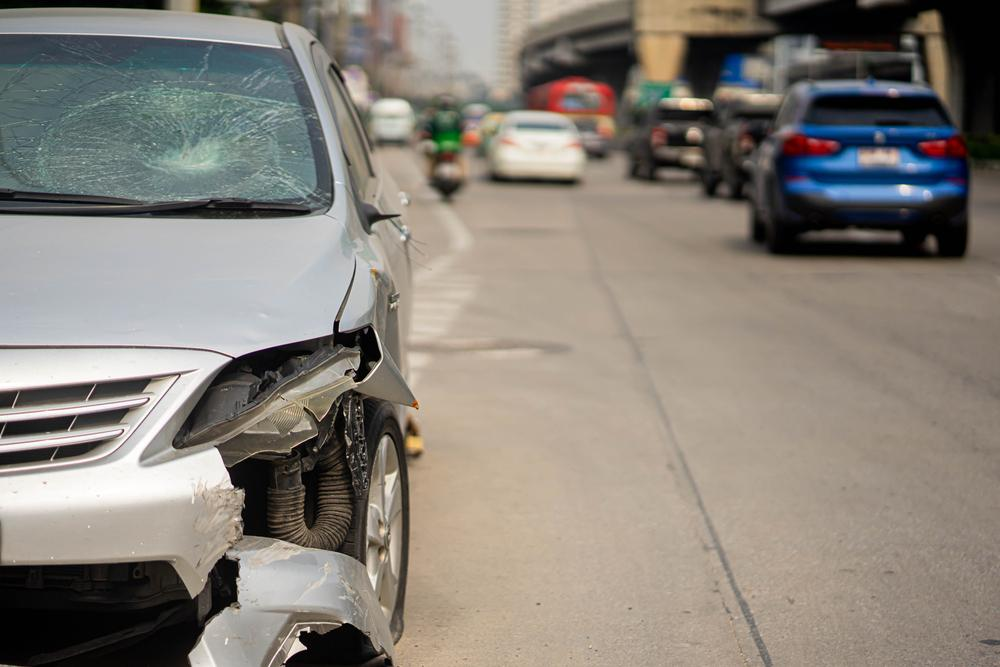crack: (189, 554, 242, 656)
glass shatter: (0, 35, 333, 213)
lamp broken: (182, 327, 389, 453)
scratch: (187, 485, 245, 572)
